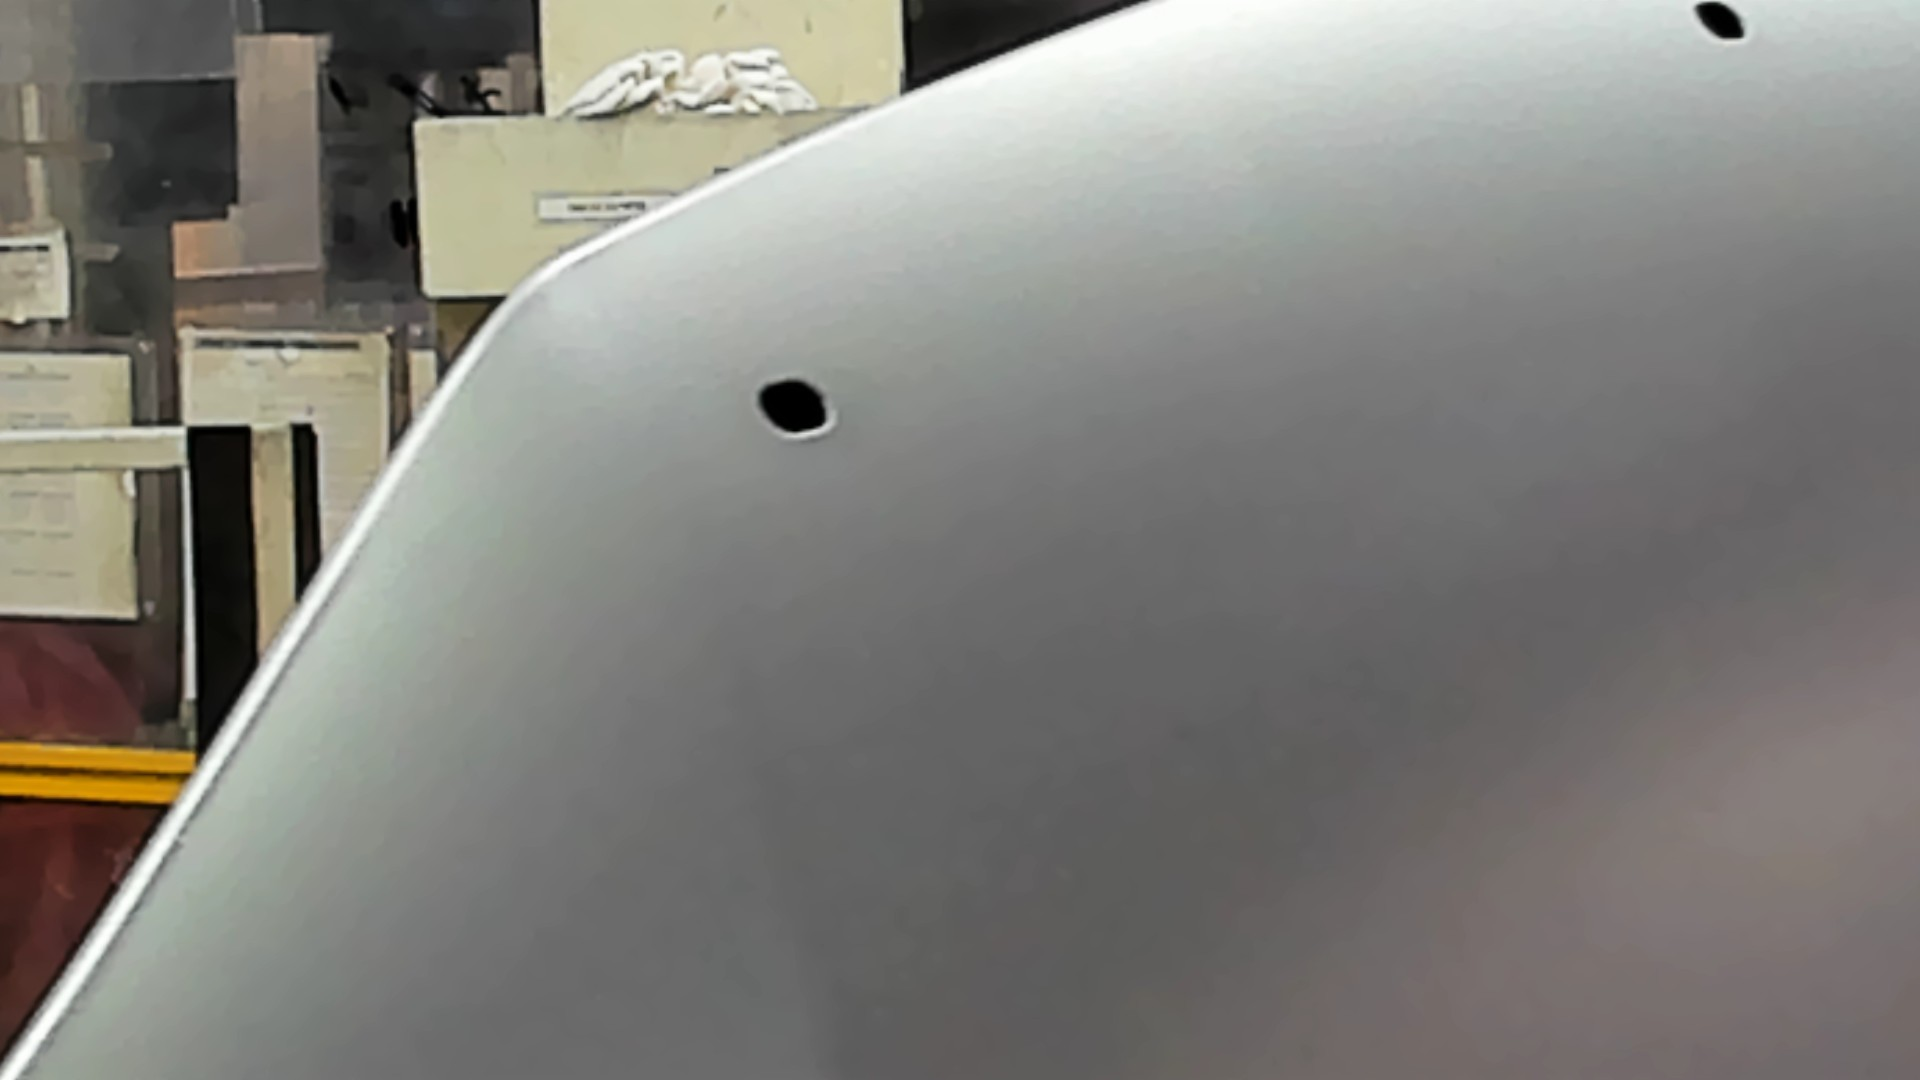amorfo: (746, 373, 847, 442), (1687, 1, 1760, 45)
